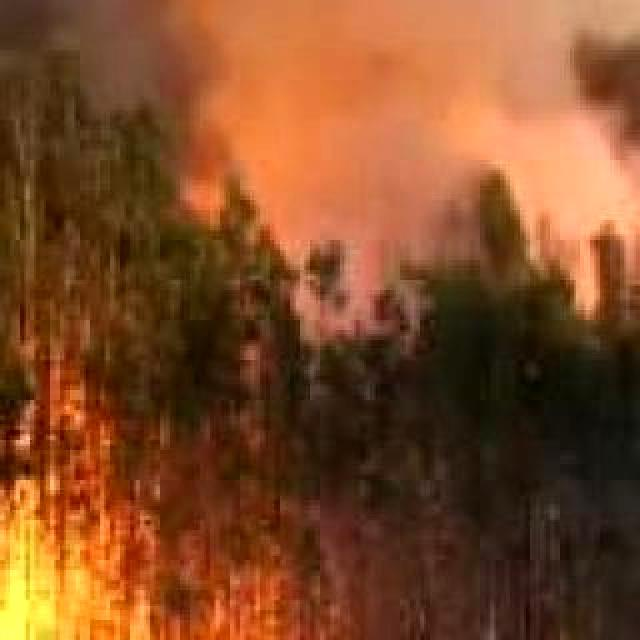fire: (0, 494, 310, 640)
